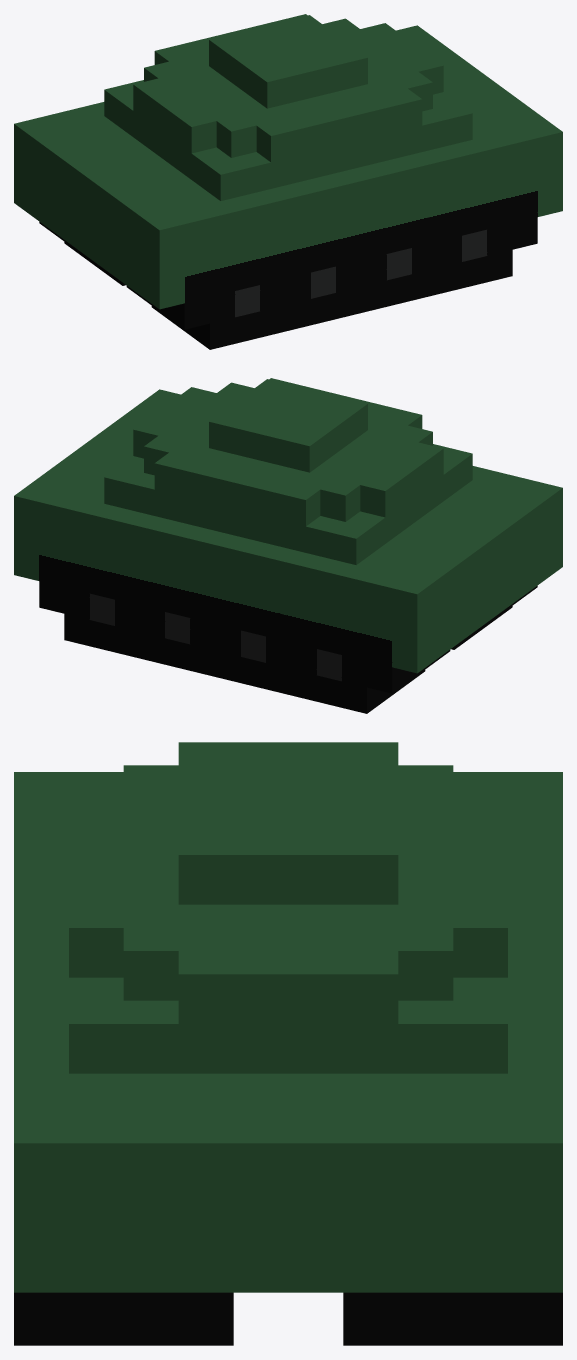
Rendered from Cuboid.dae.
The picture shows the model from 3 angles, top to bottom: view 1: azimuth 30°, elevation 25°; view 2: azimuth 150°, elevation 25°; view 3: azimuth 270°, elevation 25°; orthographic projection. The views are drawn at different scales.
Parts seen in each view (by area): view 1: Cuboid; view 2: Cuboid; view 3: Cuboid.
Part boxes in pixels (x1,y1,x2,y2): Cuboid: (14, 14, 562, 349); Cuboid: (14, 378, 562, 713); Cuboid: (14, 742, 562, 1345).
Bounding box in the file's own units: 16 × 8 × 10.
Materials: 1 (1 with a texture image).
